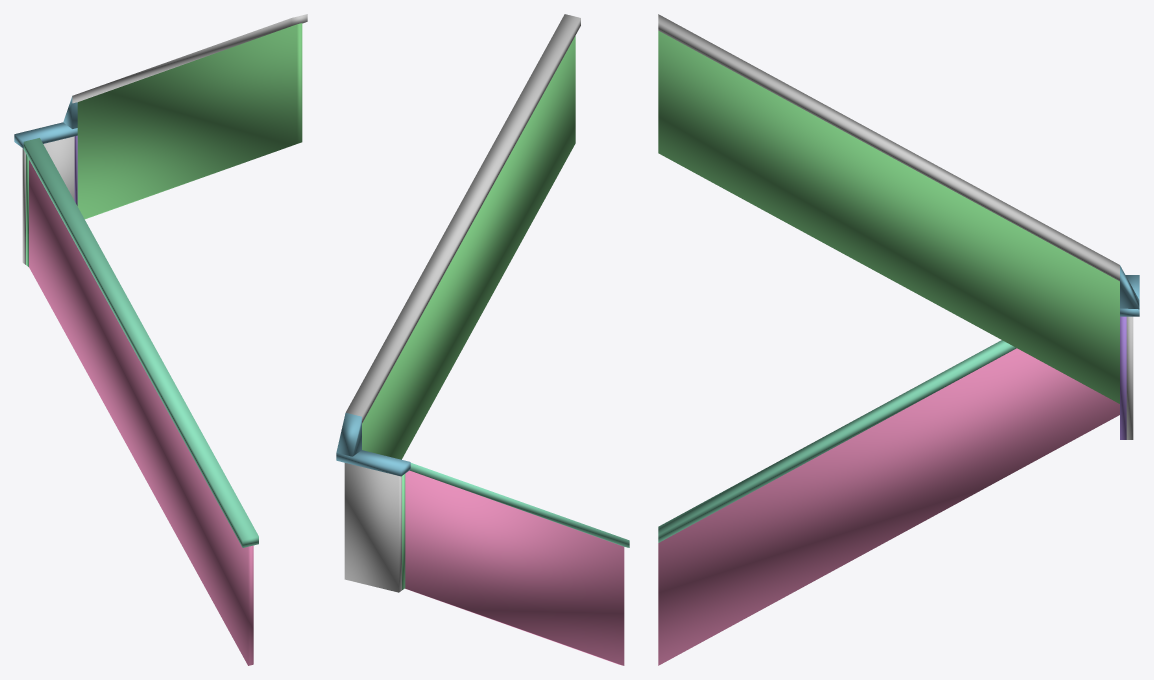
File: stairwall.obj
The picture shows the model from 3 angles, left to right: view 1: azimuth 30°, elevation 25°; view 2: azimuth 150°, elevation 25°; view 3: azimuth 270°, elevation 25°; orthographic projection. The views are drawn at different scales.
Visible parts, largest first — view 1: Rectangle041, Rectangle036, Rectangle035, Rectangle042, Rectangle039, Rectangle040; view 2: Rectangle036, Rectangle041, Rectangle042, Rectangle039, Rectangle035, Rectangle040, Rectangle045, Rectangle043; view 3: Rectangle041, Rectangle036, Rectangle042, Rectangle035, Rectangle039, Rectangle044.
Part boxes in pixels (x1,y1,x2,y2): Rectangle041: (77,23,302,219); Rectangle036: (29,160,253,665); Rectangle035: (23,138,258,547); Rectangle042: (72,14,307,103); Rectangle039: (22,136,74,264); Rectangle040: (14,122,77,148); Rectangle036: (405,470,624,665); Rectangle041: (362,36,575,459); Rectangle042: (346,14,580,423); Rectangle039: (344,463,401,592); Rectangle035: (410,463,629,547); Rectangle040: (336,450,410,476); Rectangle045: (336,413,361,456); Rectangle043: (402,474,405,589); Rectangle041: (658,30,1119,403); Rectangle036: (658,348,1119,665); Rectangle042: (658,14,1119,281); Rectangle035: (658,340,1016,542); Rectangle039: (1126,316,1133,439); Rectangle044: (1120,316,1126,439).
Size of the model in its own units: 14.4 by 135 by 87.6.
